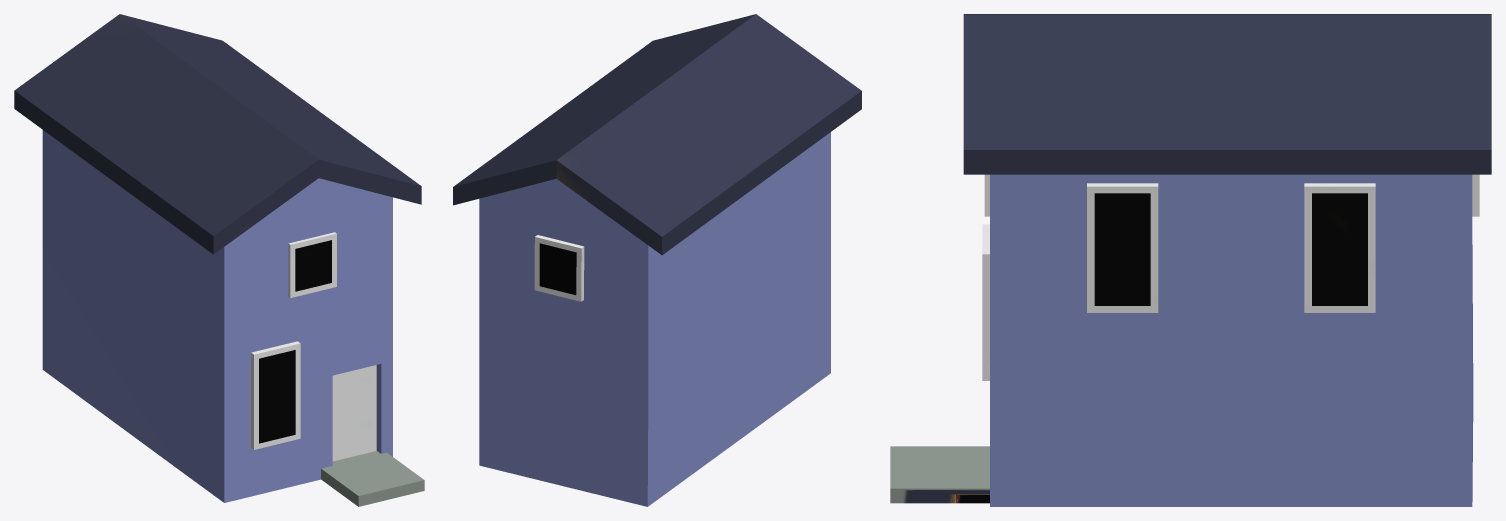
Rendered from house.002.obj.
3 views of the same model, side by side, from view 1: azimuth 30°, elevation 25°; view 2: azimuth 150°, elevation 25°; view 3: azimuth 270°, elevation 25° (orthographic). The views are drawn at different scales.
Visible parts, largest first — view 1: House.002; view 2: House.002; view 3: House.002.
Boxes of the visible parts, left/top/right/bottom form: House.002: left=14, top=14, right=424, bottom=506; House.002: left=453, top=14, right=861, bottom=506; House.002: left=890, top=14, right=1491, bottom=506.
Size of the model in its own units: 0.7894 by 1.2 by 1.49.
1 material, 1 textured.
